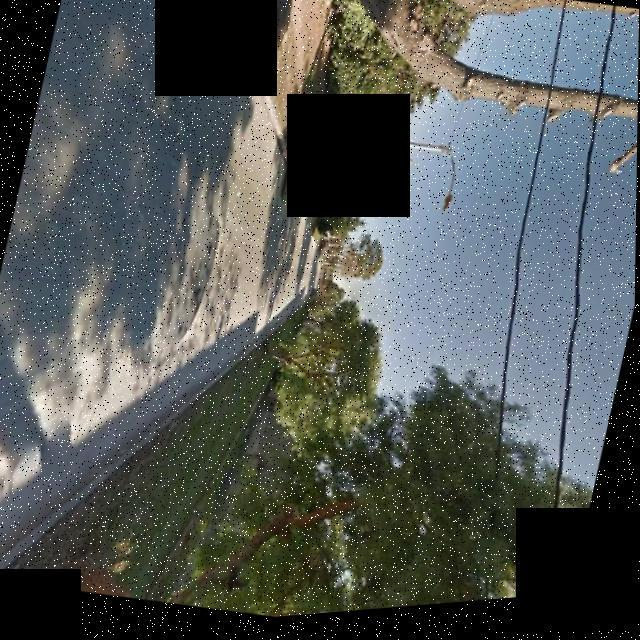bin: (265, 162, 337, 229)
